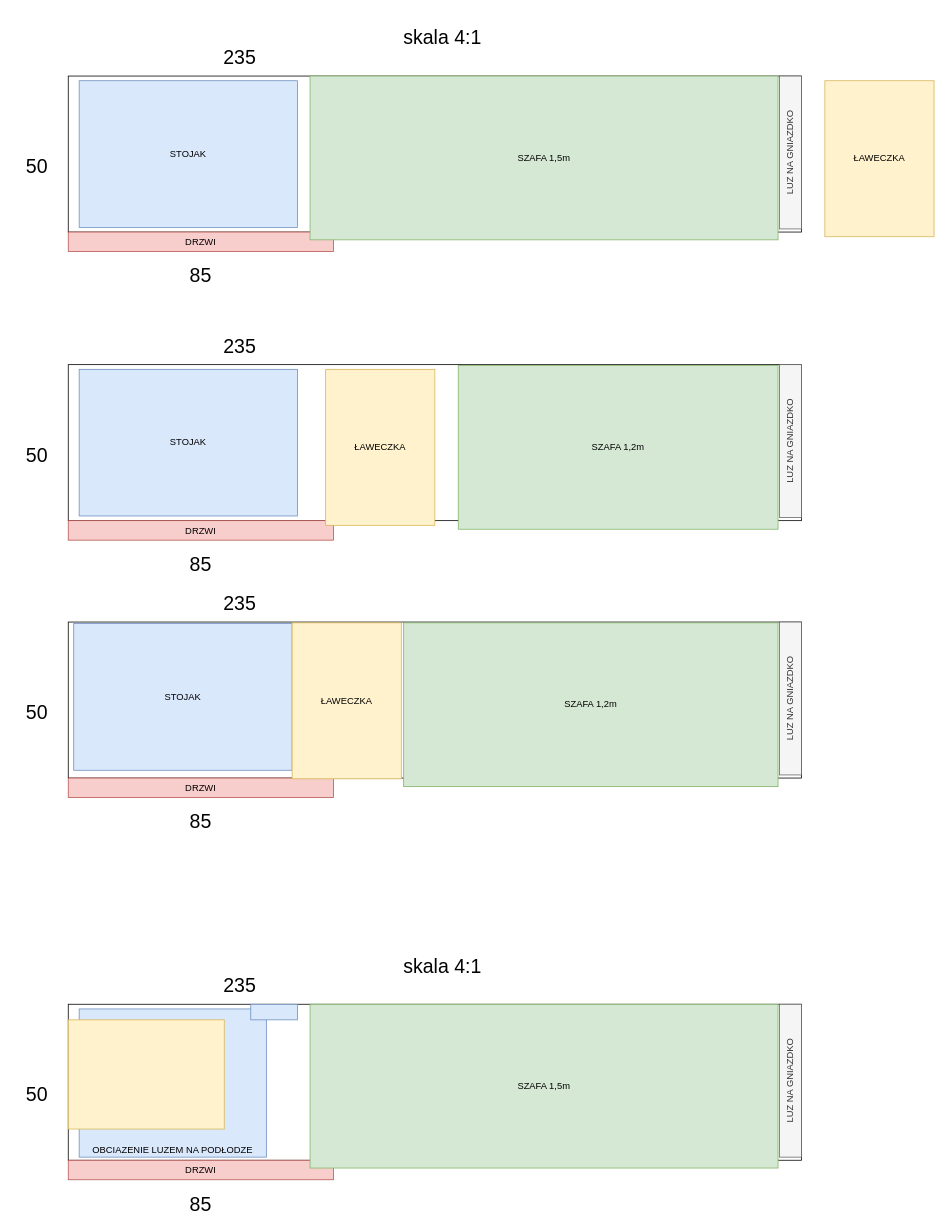
Some shapes in this 948 by 1228 pixel diagram are drawn without their labels. The shapes that lost their labels are listed below. From the top down, each one's box as (x1, y1, x2, y2) in pixels, then its label:
(250, 1003, 298, 1020): HAK NA GRYFY
(67, 1019, 224, 1129): ŁAWECZKA ZAWIESZONA
